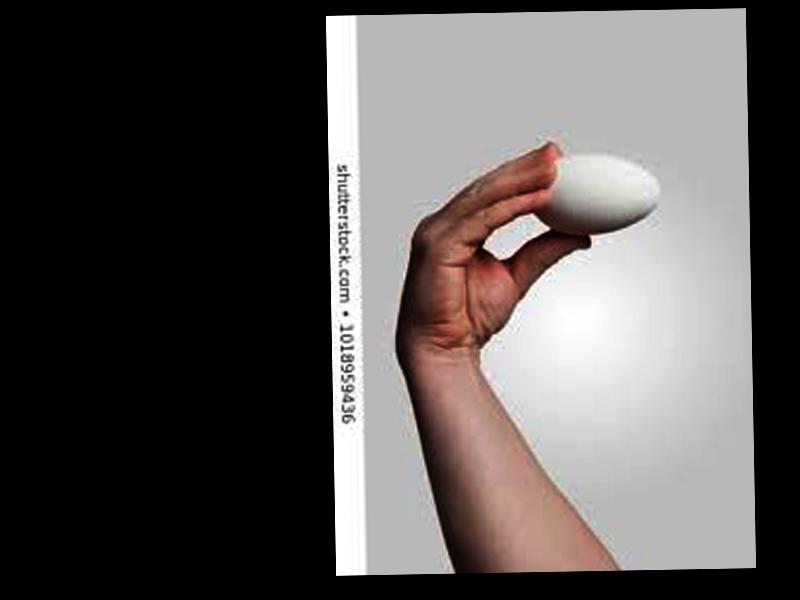Eggs: (531, 149, 663, 236)
